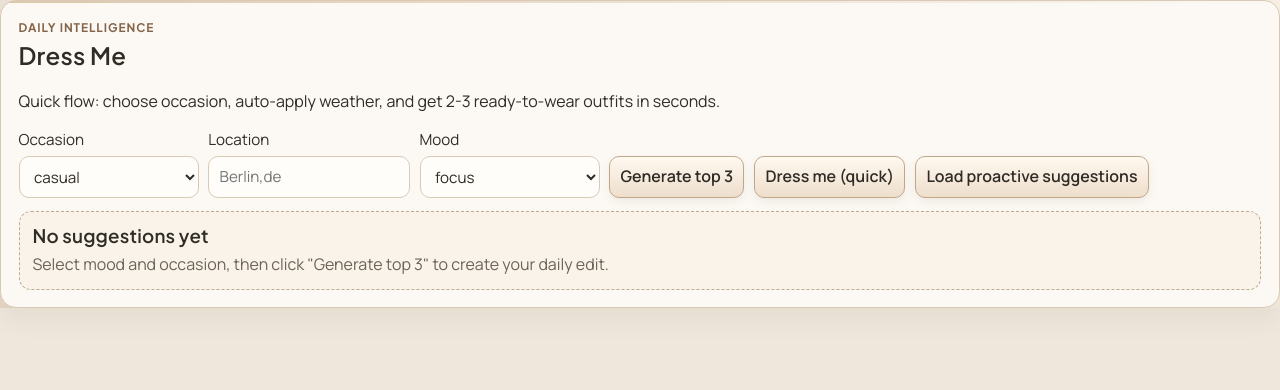
Test case: DailyOutfitPage gap panel › renders structured gap analysis after generation
Step 1. Click the button "Generate top 3" → (677, 177), box [609,156,744,198]
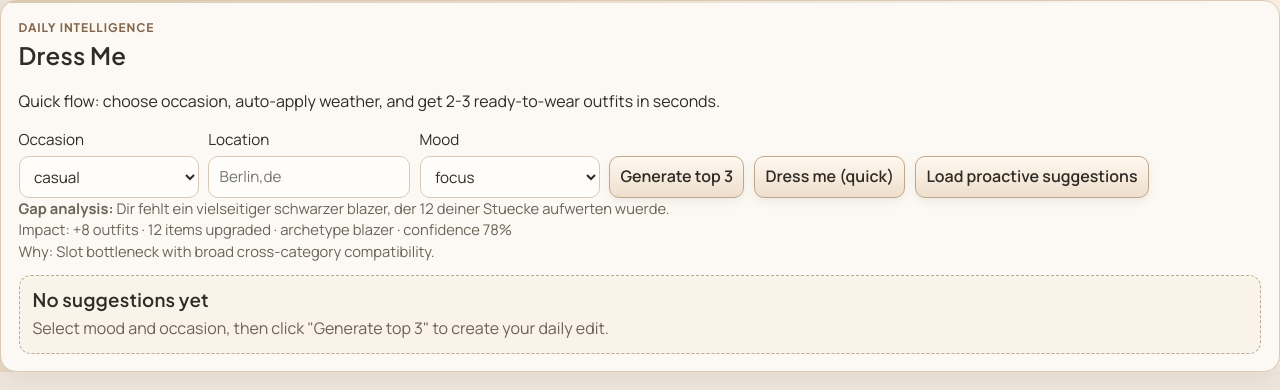
Expected: the text "Gap analysis:" is shown, [19,198,114,218]
Expected: the text "items upgraded" is shown, [139,219,271,239]
Expected: the text "confidence" is shown, [394,219,512,239]
